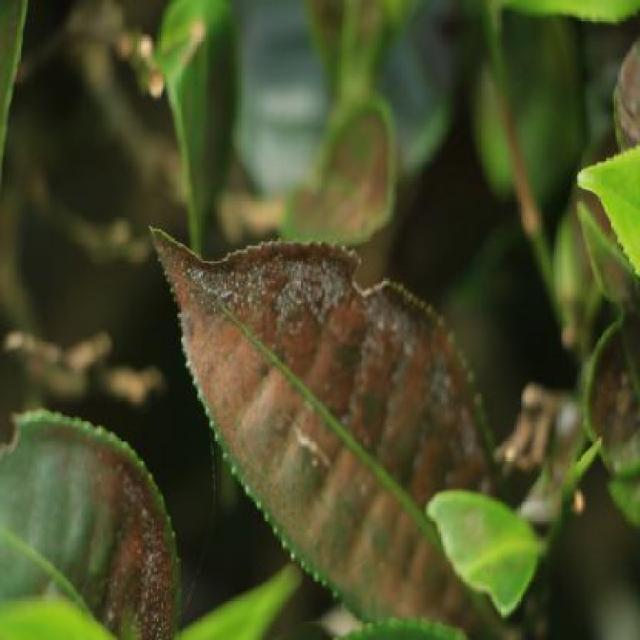Red Spider infested tea leaf: (146, 212, 520, 638), (0, 397, 185, 640)
